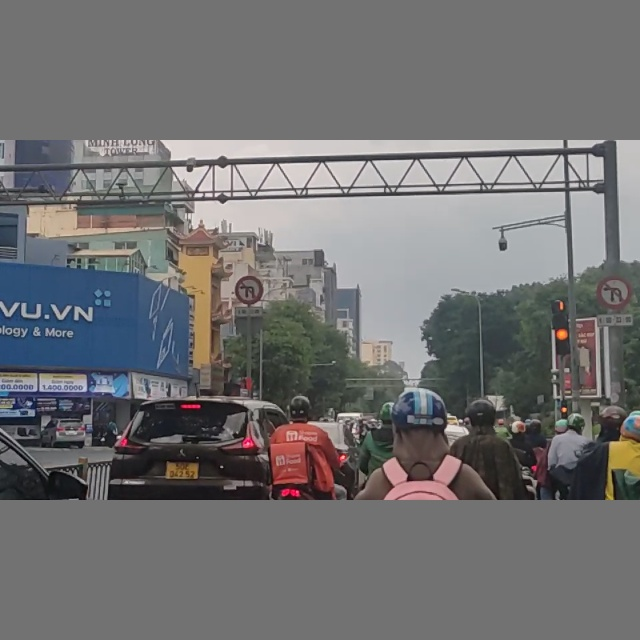P.124c: (596, 276, 632, 309), (235, 275, 263, 305)
